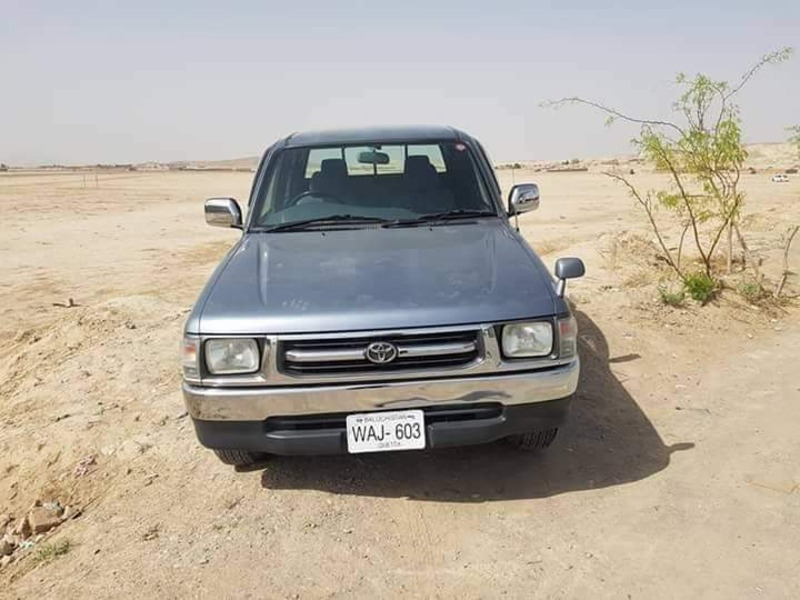License Plate: (342, 406, 429, 458)
